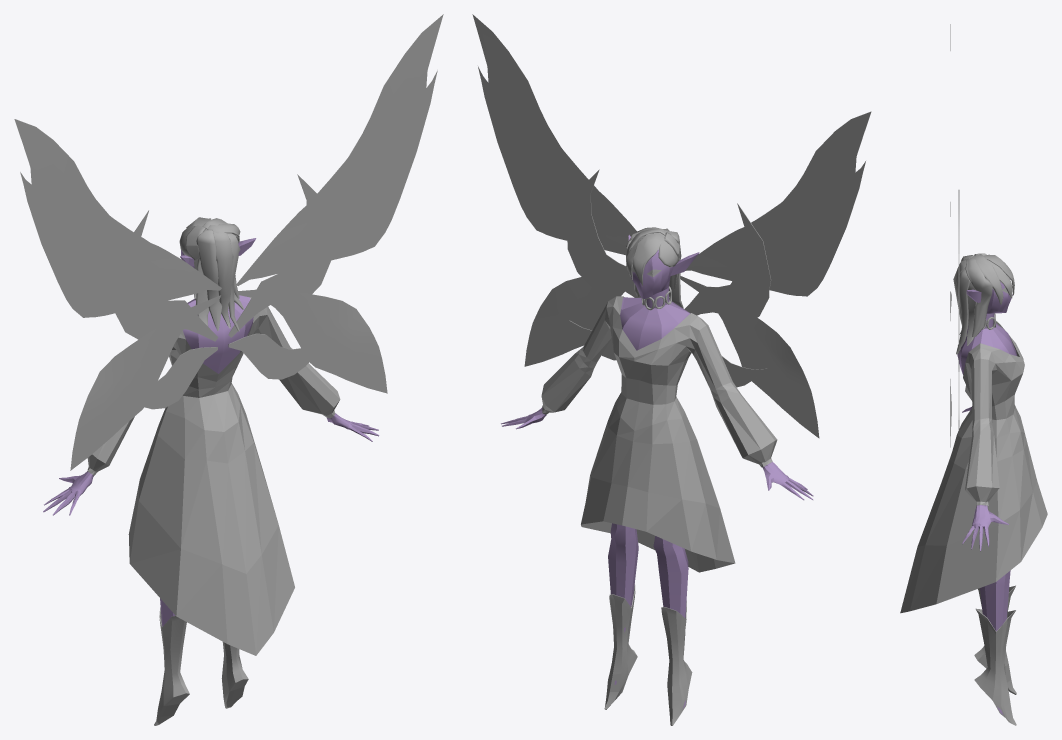
File: Lyra.fbx
The picture shows the model from 3 angles, left to right: view 1: azimuth 30°, elevation 25°; view 2: azimuth 150°, elevation 25°; view 3: azimuth 270°, elevation 25°; orthographic projection. The views are drawn at different scales.
Parts seen in each view (by area): view 1: Dress, top_wing, top_wing1, bottom_wing1, bottom_wing, Body, boots, top_wings1, top_wings, bottom_wings, bottom_wings1, hairbase13 (+1 smaller); view 2: Dress, top_wing1, top_wing, Body, bottom_wing1, bottom_wing, boots, top_wings1, top_wings, hairbase5; view 3: Dress, Body, boots, hairbase17, hairbase16, hairbase8, hairbase14, hairbase5, hairbase7.
Part boxes in pixels (left/top/right/bottom): Dress: left=87, top=297, right=340, bottom=655; top_wing: left=236, top=14, right=443, bottom=285; top_wing1: left=14, top=119, right=221, bottom=317; bottom_wing1: left=70, top=295, right=220, bottom=470; bottom_wing: left=237, top=288, right=387, bottom=393; Body: left=43, top=238, right=379, bottom=626; boots: left=154, top=607, right=248, bottom=725; top_wings1: left=115, top=210, right=218, bottom=341; top_wings: left=228, top=174, right=330, bottom=337; bottom_wings: left=228, top=333, right=308, bottom=379; bottom_wings1: left=144, top=347, right=217, bottom=409; hairbase13: left=196, top=229, right=222, bottom=330; Dress: left=541, top=296, right=777, bottom=572; top_wing1: left=685, top=111, right=871, bottom=296; top_wing: left=472, top=14, right=636, bottom=255; Body: left=501, top=235, right=813, bottom=708; bottom_wing1: left=680, top=276, right=819, bottom=438; bottom_wing: left=524, top=277, right=624, bottom=366; boots: left=604, top=583, right=692, bottom=725; top_wings1: left=684, top=203, right=771, bottom=323; top_wings: left=565, top=169, right=638, bottom=297; hairbase5: left=632, top=233, right=664, bottom=285; Dress: left=900, top=321, right=1047, bottom=613; Body: left=957, top=279, right=1016, bottom=714; boots: left=974, top=585, right=1016, bottom=725; hairbase17: left=965, top=256, right=992, bottom=337; hairbase16: left=956, top=268, right=970, bottom=354; hairbase8: left=973, top=254, right=1003, bottom=304; hairbase14: left=967, top=282, right=976, bottom=345; hairbase5: left=983, top=254, right=1014, bottom=295; hairbase7: left=988, top=260, right=1012, bottom=297.
Bounding box in the file's own units: 6.99 × 10.55 × 2.34.
